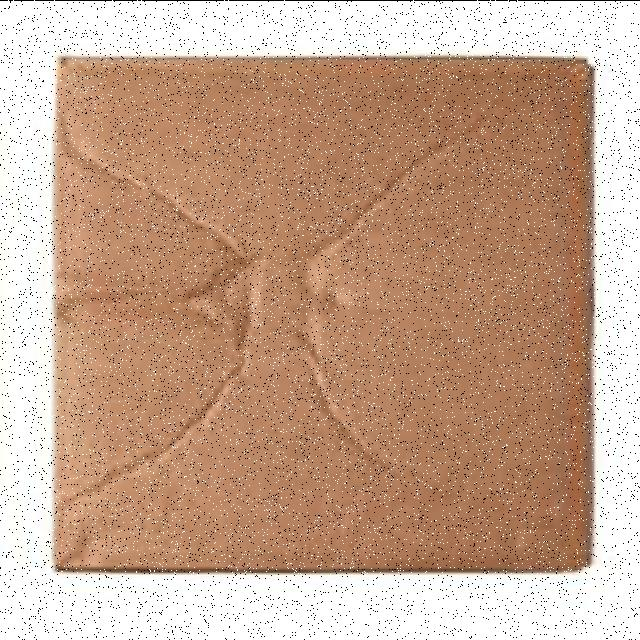normal: (44, 44, 602, 578)
